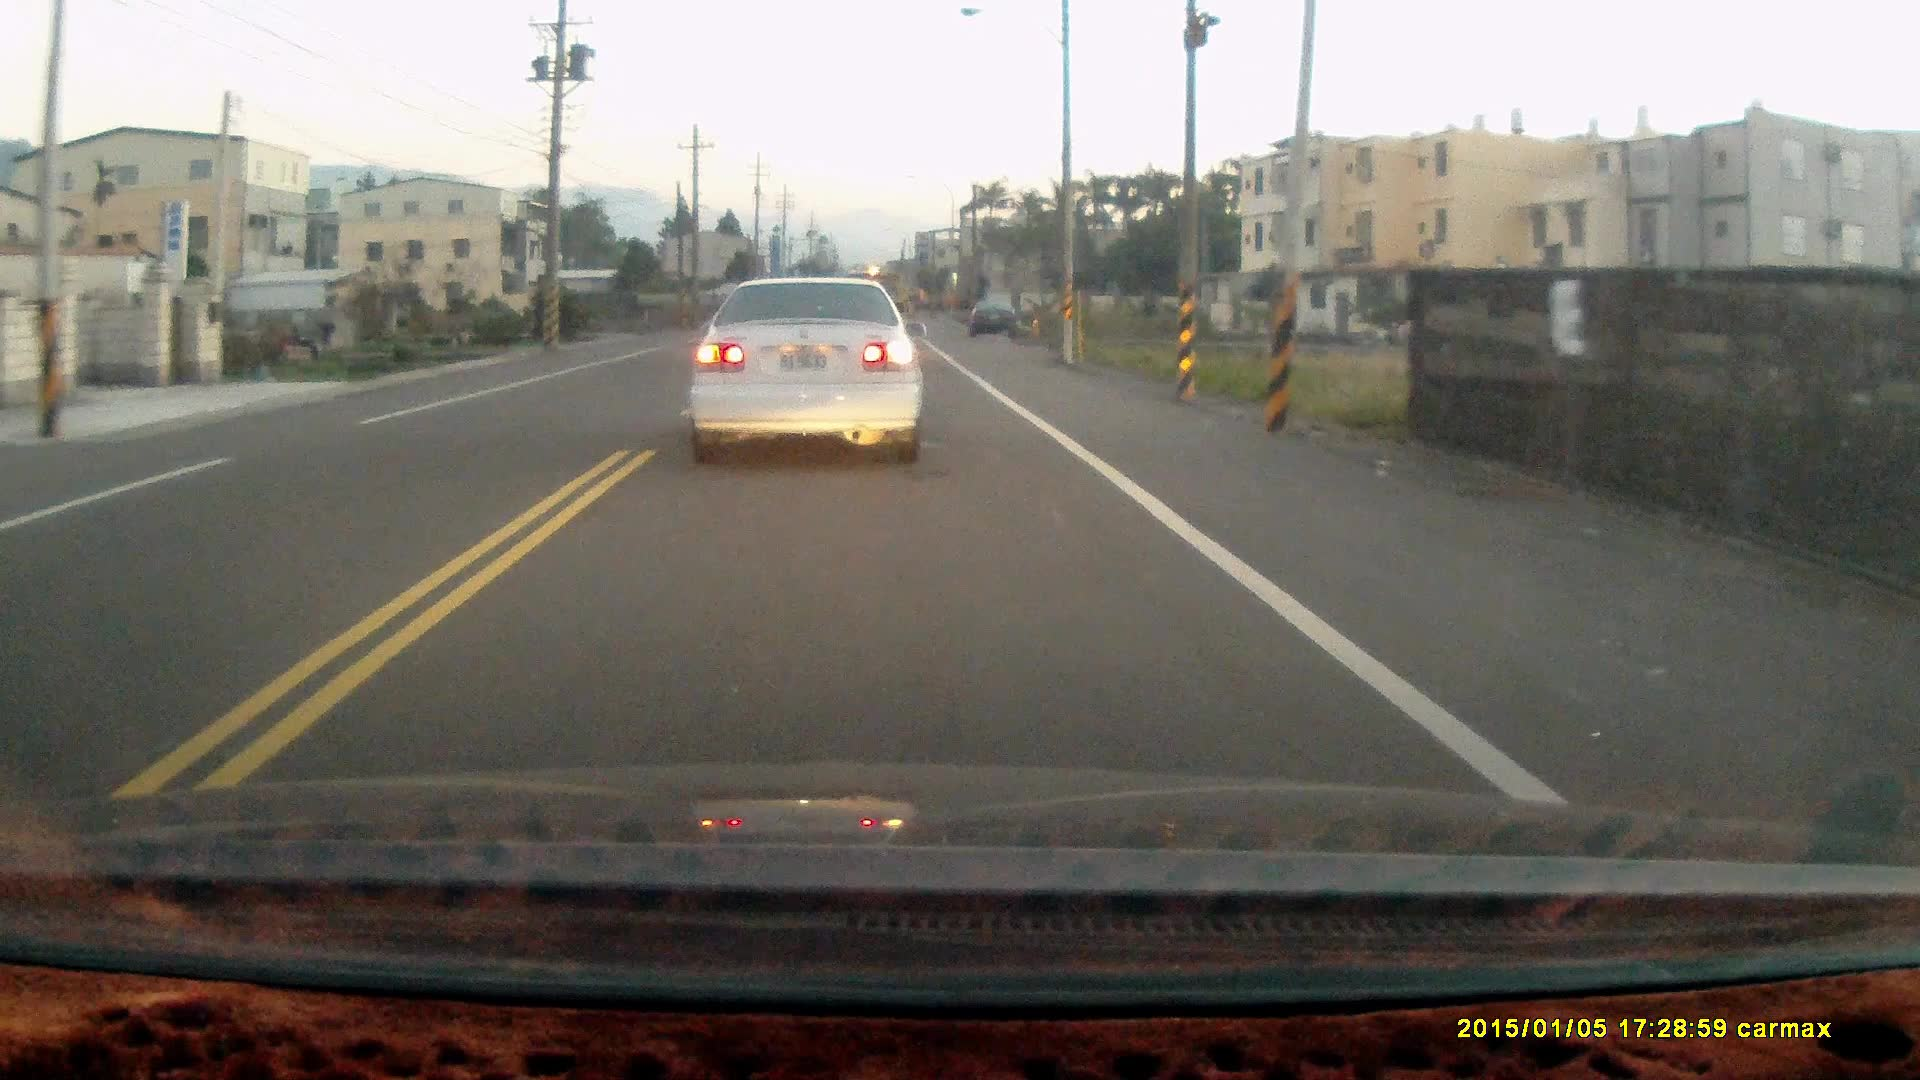vehicle: (688, 274, 928, 469), (967, 295, 1022, 343)
